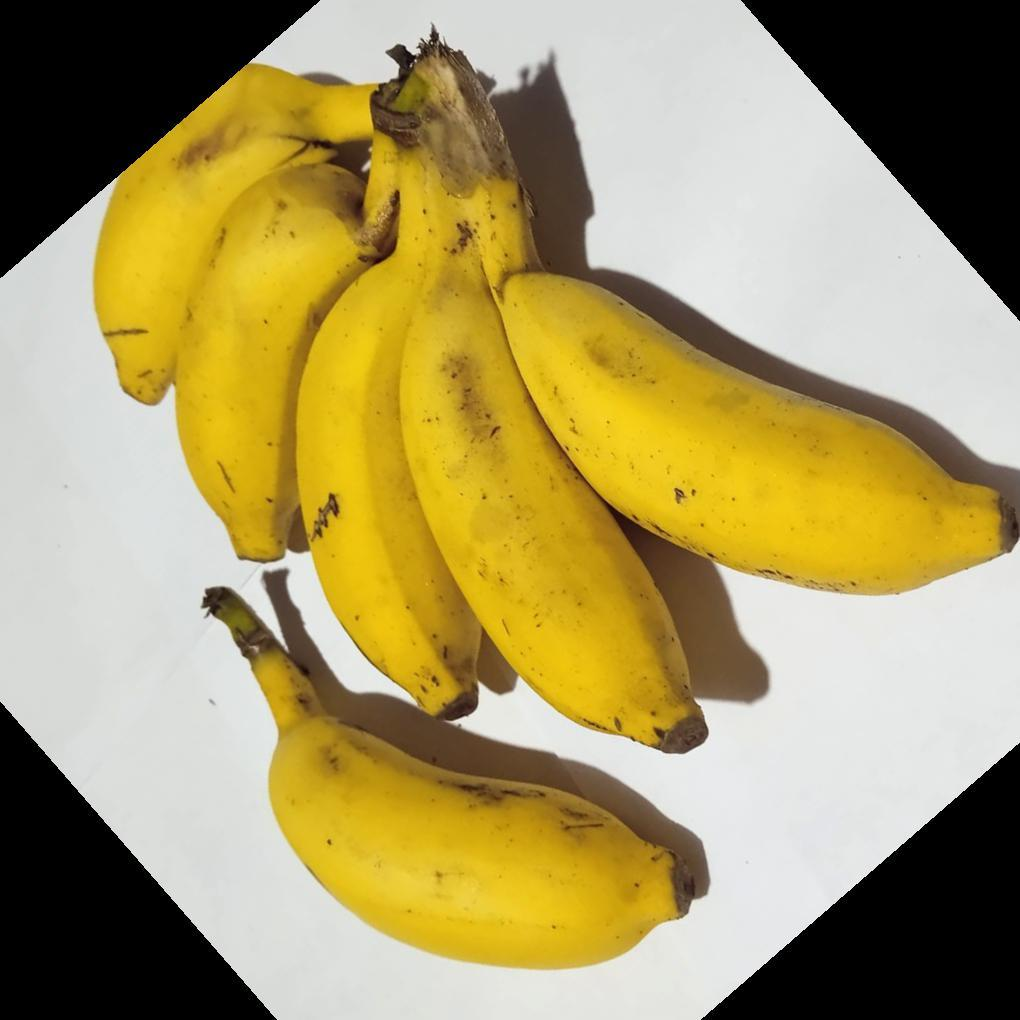Banana Ripe: (433, 44, 1020, 667), (383, 4, 717, 847), (166, 553, 743, 1006), (111, 41, 466, 726)
